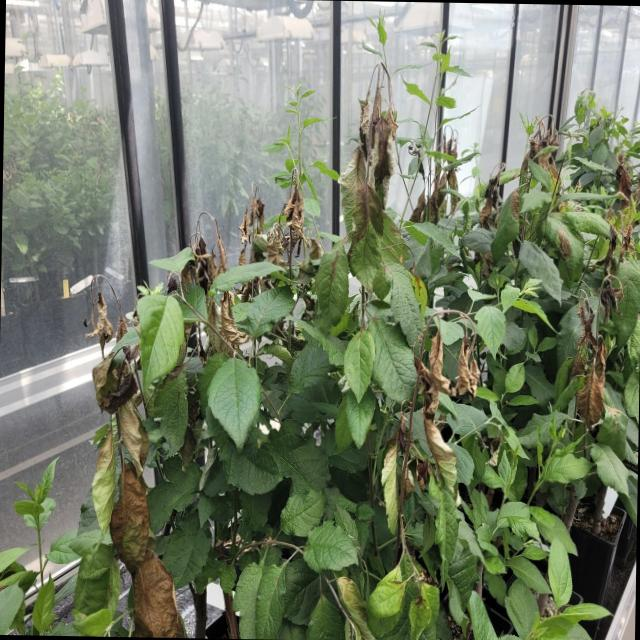-FireBlight-: (85, 271, 195, 638), (376, 301, 482, 522), (575, 150, 640, 430), (338, 59, 401, 294), (168, 210, 243, 357), (237, 162, 322, 273), (504, 108, 569, 227), (405, 127, 466, 221)
